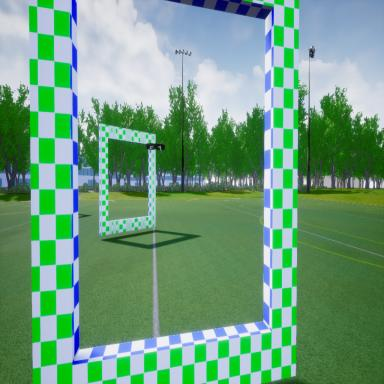gate: (28, 0, 297, 384), (96, 112, 157, 234)
